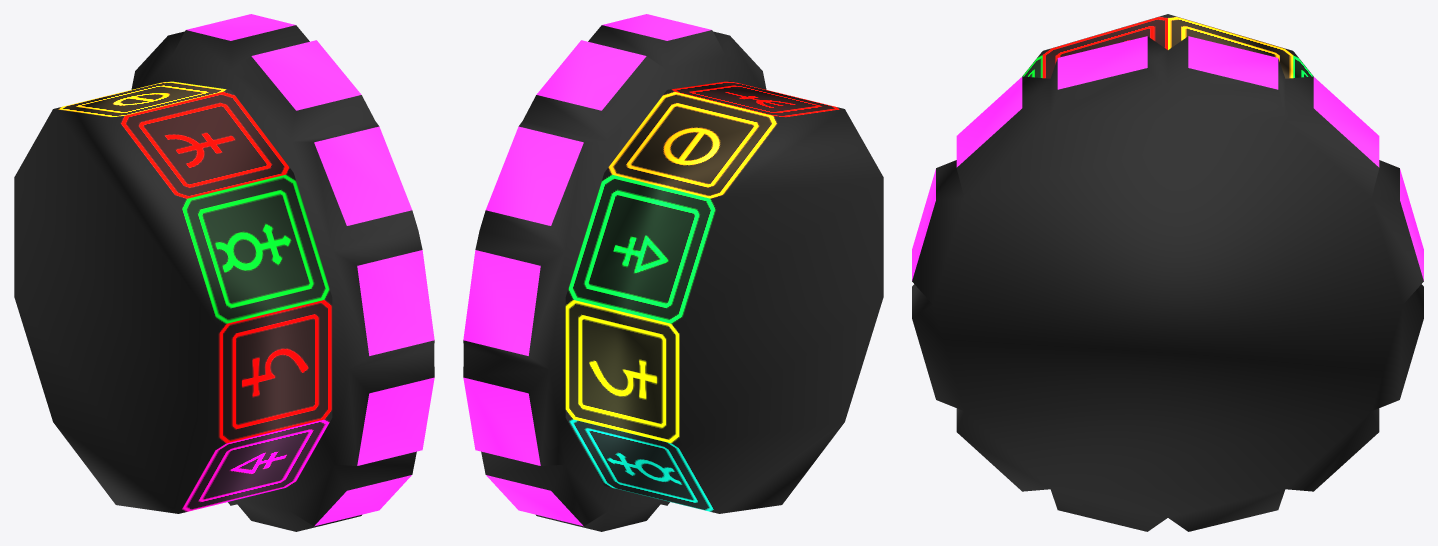
Rendered from Padlock_roulette.glb.
3 views of the same model, side by side, from view 1: azimuth 30°, elevation 25°; view 2: azimuth 150°, elevation 25°; view 3: azimuth 270°, elevation 25° (orthographic).
Visible parts, largest first — view 1: Cylinder.013; view 2: Cylinder.013; view 3: Cylinder.013.
Part boxes in pixels (left/top/right/bottom): Cylinder.013: left=14, top=14, right=434, bottom=531; Cylinder.013: left=463, top=14, right=883, bottom=531; Cylinder.013: left=912, top=14, right=1423, bottom=531.
Bounding box in the file's own units: 0.1083 × 0.2398 × 0.2398.
Materials: 3 (1 with a texture image).
